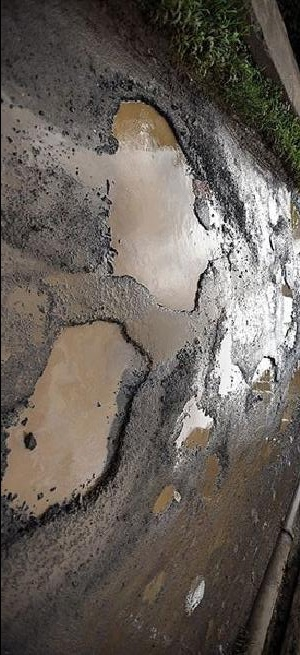pothole: (1, 316, 155, 554), (103, 94, 221, 315), (172, 401, 217, 462), (198, 446, 230, 501), (245, 353, 280, 400), (150, 481, 182, 522), (280, 274, 296, 337), (266, 193, 286, 228)
